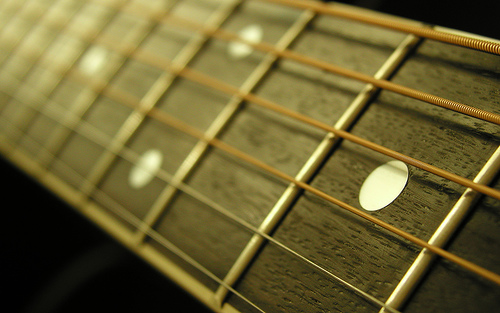guitar: (1, 1, 500, 313)
